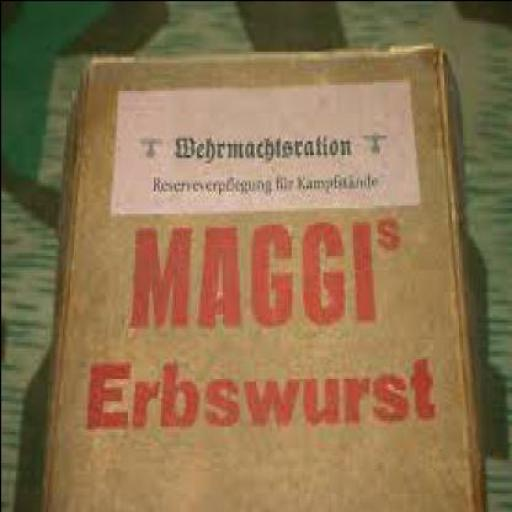cardboard: (40, 40, 482, 510)
